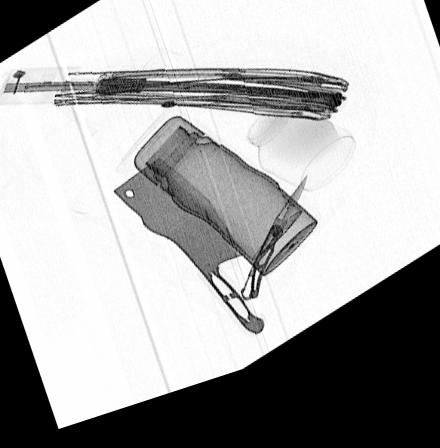Knife: (112, 166, 265, 349), (239, 192, 308, 316)
